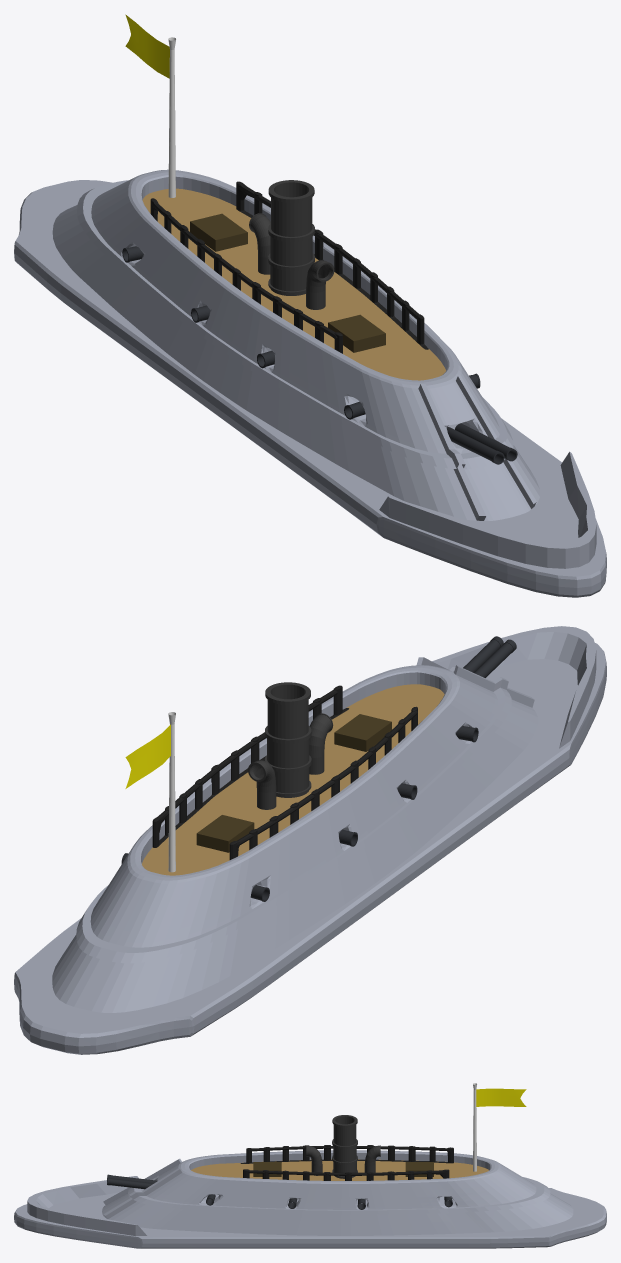
Rendered from Ironclad.dae.
3 views of the same model, one above another, from view 1: azimuth 30°, elevation 25°; view 2: azimuth 150°, elevation 25°; view 3: azimuth 270°, elevation 25° (orthographic). The views are drawn at different scales.
Parts seen in each view (by area): view 1: Circle, Plane, upper_deck, upper_deck_001, Circle_001, deck_door, deck_door_001, flag, small_mast, Circle_002, Circle_003, Circle_008; view 2: Circle, Plane, upper_deck, upper_deck_001, Circle_001, deck_door_001, flag, deck_door, Circle_003, small_mast, Circle_002, Circle_008; view 3: Circle, Plane, upper_deck, upper_deck_001, Circle_001, flag, small_mast, deck_door_001, Circle_002, deck_door, Circle_003, Circle_009.
Part boxes in pixels (<box>): Circle: <box>52,169,539,520</box>; Plane: <box>14,180,606,597</box>; upper_deck: <box>142,188,445,380</box>; upper_deck_001: <box>150,181,428,353</box>; Circle_001: <box>268,180,314,295</box>; deck_door: <box>190,213,247,251</box>; deck_door_001: <box>328,314,385,352</box>; flag: <box>125,14,169,78</box>; small_mast: <box>168,37,175,197</box>; Circle_002: <box>306,260,334,309</box>; Circle_003: <box>249,213,270,274</box>; Circle_008: <box>446,427,504,464</box>; Circle: <box>52,657,538,1012</box>; Plane: <box>14,626,606,1054</box>; upper_deck: <box>142,684,444,875</box>; upper_deck_001: <box>152,685,417,859</box>; Circle_001: <box>264,682,311,797</box>; deck_door_001: <box>334,714,391,751</box>; flag: <box>125,724,170,788</box>; deck_door: <box>196,815,254,852</box>; Circle_003: <box>248,760,276,809</box>; small_mast: <box>168,712,175,872</box>; Circle_002: <box>309,713,333,774</box>; Circle_008: <box>474,639,516,677</box>; Circle: <box>102,1150,573,1235</box>; Plane: <box>14,1176,606,1248</box>; upper_deck: <box>191,1159,488,1180</box>; upper_deck_001: <box>240,1145,453,1180</box>; Circle_001: <box>332,1115,357,1178</box>; flag: <box>476,1088,526,1106</box>; small_mast: <box>473,1083,476,1171</box>; deck_door_001: <box>253,1162,281,1176</box>; Circle_002: <box>306,1145,322,1175</box>; deck_door: <box>405,1162,433,1176</box>; Circle_003: <box>364,1145,380,1172</box>; Circle_009: <box>107,1178,153,1189</box>.
Bounding box in the file's own units: 0.7572 × 3.62 × 0.937.
